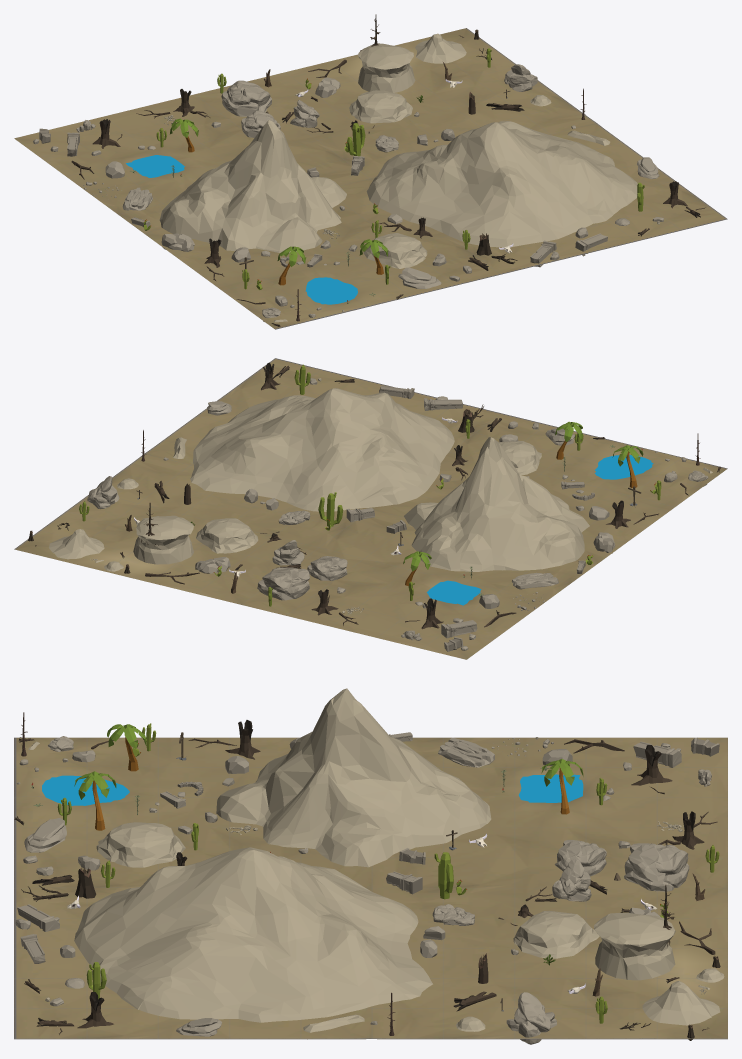
Rendered from desert.fbx.
3 renders of one model, top to bottom at view 1: azimuth 30°, elevation 25°; view 2: azimuth 150°, elevation 25°; view 3: azimuth 270°, elevation 25°, orthographic. The views are drawn at different scales.
Visible parts, largest first — view 1: Plane001, SM_Terrain_Mountain_01, SM_Terrain_Mountain_02, SM_Terrain_GrassEdge_03, SM_Terrain_GrassEdge_04, SM_Terrain_GrassEdge_04__1_, SM_Rock_Cluster_Large_04, River_Plane_01__1_, SM_Terrain_DustPile_Small_02, River_Plane_01, SM_Rock_Cluster_Large_01__1_, SM_Rock_Pile_04__1_ (+3 smaller); view 2: Plane001, SM_Terrain_Mountain_01, SM_Terrain_Mountain_02, SM_Terrain_GrassEdge_03, SM_Terrain_GrassEdge_04, SM_Rock_Cluster_Large_04, SM_Terrain_DustPile_Small_02, River_Plane_01__1_, SM_Terrain_GrassEdge_04__1_, River_Plane_01, SM_Rock_Cluster_Large_04__1_, SM_Rock_Cluster_Large_01__1_ (+3 smaller); view 3: Plane001, SM_Terrain_Mountain_01, SM_Terrain_Mountain_02, SM_Terrain_GrassEdge_03, SM_Terrain_GrassEdge_04__1_, SM_Terrain_GrassEdge_04, SM_Rock_Cluster_Large_04, SM_Terrain_DustPile_Small_02, River_Plane_01__1_, SM_Rock_Cluster_Large_01__1_, River_Plane_01, SM_Rock_Cluster_Large_04__1_ (+12 smaller).
Part boxes in pixels (x1,y1,x2,y2): Plane001: (14,28,727,329); SM_Terrain_Mountain_01: (366,121,637,247); SM_Terrain_Mountain_02: (159,120,346,252); SM_Terrain_GrassEdge_03: (358,43,415,92); SM_Terrain_GrassEdge_04: (349,90,412,123); SM_Terrain_GrassEdge_04__1_: (363,233,427,268); SM_Rock_Cluster_Large_04: (221,80,271,116); River_Plane_01__1_: (305,277,357,304); SM_Terrain_DustPile_Small_02: (415,33,466,63); River_Plane_01: (126,155,184,177); SM_Rock_Cluster_Large_01__1_: (504,64,537,91); SM_Rock_Pile_04__1_: (398,267,441,288); Plane001: (14,358,727,659); SM_Terrain_Mountain_01: (190,388,454,511); SM_Terrain_Mountain_02: (404,437,589,571); SM_Terrain_GrassEdge_03: (133,515,193,564); SM_Terrain_GrassEdge_04: (196,518,258,553); SM_Rock_Cluster_Large_04: (257,567,309,600); SM_Terrain_DustPile_Small_02: (49,529,104,559); River_Plane_01__1_: (595,455,653,479); SM_Terrain_GrassEdge_04__1_: (499,441,541,474); River_Plane_01: (427,580,481,605); SM_Rock_Cluster_Large_04__1_: (307,556,347,580); SM_Rock_Cluster_Large_01__1_: (87,476,119,509); Plane001: (14,737,727,1039); SM_Terrain_Mountain_01: (74,847,432,1022); SM_Terrain_Mountain_02: (216,688,491,867); SM_Terrain_GrassEdge_03: (594,912,675,980); SM_Terrain_GrassEdge_04__1_: (96,822,185,867); SM_Terrain_GrassEdge_04: (513,911,599,958); SM_Rock_Cluster_Large_04: (624,843,689,891); SM_Terrain_DustPile_Small_02: (642,981,720,1025); River_Plane_01__1_: (42,775,129,805); SM_Rock_Cluster_Large_01__1_: (506,992,556,1044); River_Plane_01: (518,774,583,802); SM_Rock_Cluster_Large_04__1_: (555,840,606,876).
Bounding box in the file's own units: 3800 × 843 × 3800.
22 materials, 21 textured.
